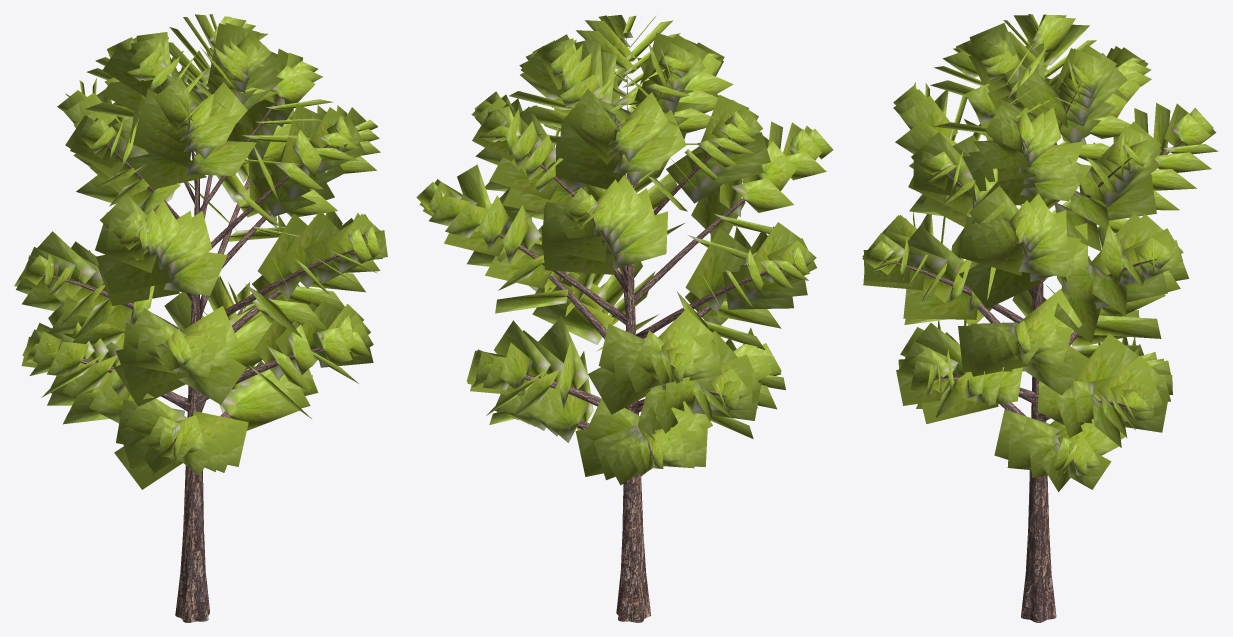
Rendered from Tree1.fbx.
The picture shows the model from 3 angles, left to right: view 1: azimuth 30°, elevation 25°; view 2: azimuth 150°, elevation 25°; view 3: azimuth 270°, elevation 25°; orthographic projection.
Visible parts, largest first — view 1: Tree_1, Tree_0; view 2: Tree_1, Tree_0; view 3: Tree_1, Tree_0.
Part boxes in pixels (<box>): Tree_1: <box>14,14,387,489</box>; Tree_0: <box>39,74,368,622</box>; Tree_1: <box>416,15,833,485</box>; Tree_0: <box>430,37,795,622</box>; Tree_1: <box>862,14,1218,491</box>; Tree_0: <box>879,73,1181,622</box>.
Bounding box in the file's own units: 434 × 697 × 382.
2 materials, 2 textured.
